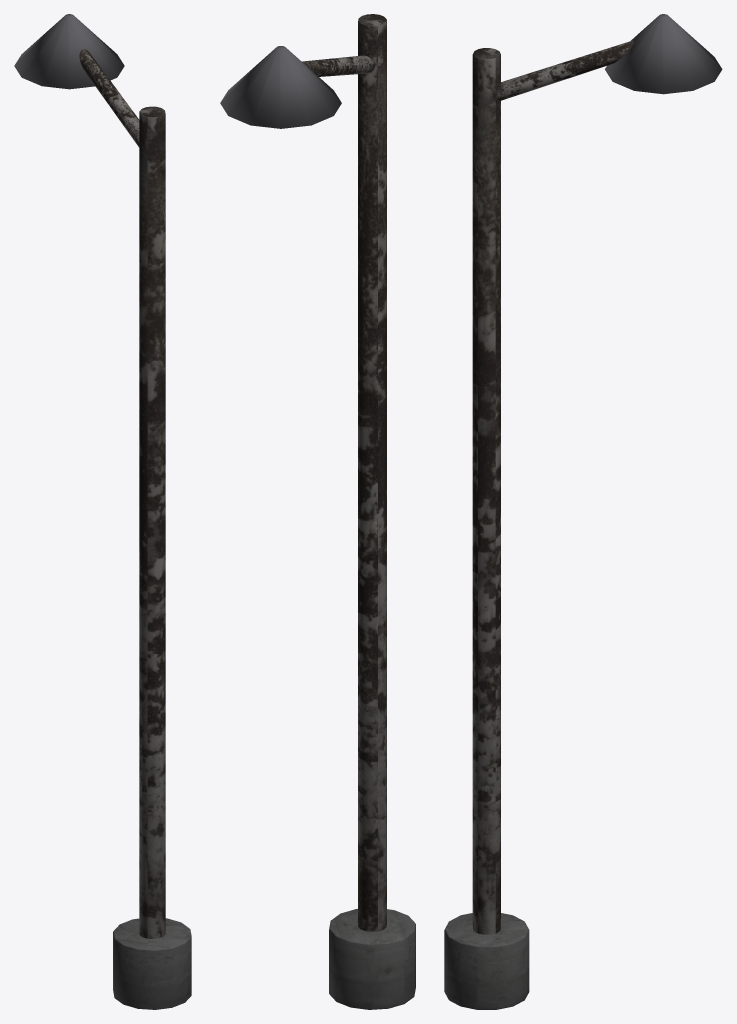
Rendered from prop_lamp_post.glb.
3 views of the same model, side by side, from view 1: azimuth 30°, elevation 25°; view 2: azimuth 150°, elevation 25°; view 3: azimuth 270°, elevation 25° (orthographic). The views are drawn at different scales.
Parts seen in each view (by area): view 1: Pole, Base, Shade, Arm; view 2: Pole, Base, Shade, Arm; view 3: Pole, Base, Shade, Arm.
Boxes of the visible parts, x1,y1,x2,y2 form: Pole: (139, 106, 165, 938); Base: (113, 918, 191, 1009); Shade: (14, 14, 124, 89); Arm: (79, 49, 139, 147); Pole: (358, 14, 386, 931); Base: (329, 909, 415, 1009); Shade: (220, 46, 341, 128); Arm: (302, 55, 374, 76); Pole: (472, 48, 500, 934); Base: (444, 913, 529, 1009); Shade: (605, 14, 722, 94); Arm: (497, 40, 633, 100).
Size of the model in its own units: 0.5 by 4.57 by 1.18.
Materials: 4 (2 with a texture image).
